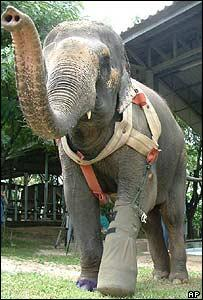elephant: (1, 3, 189, 296)
